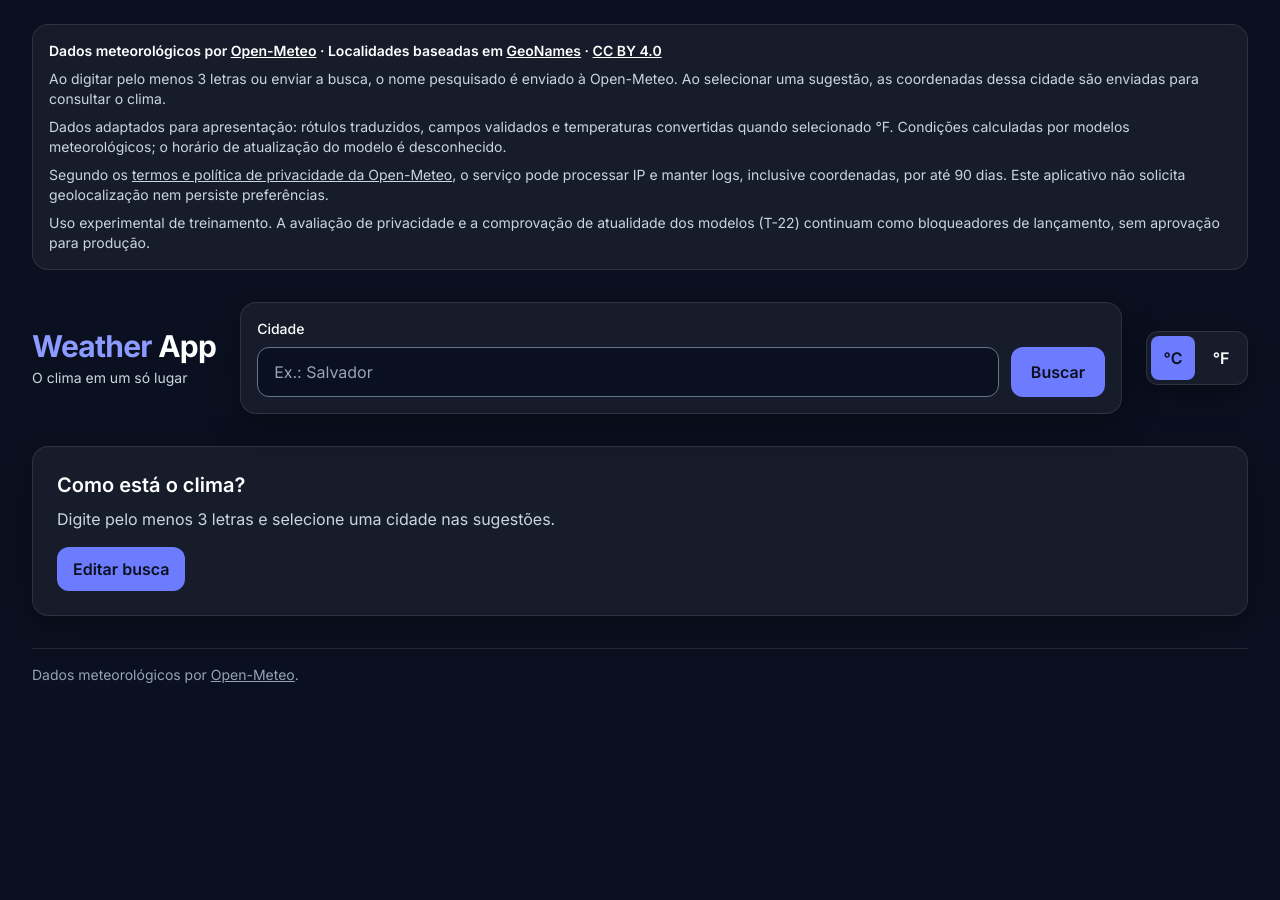
App com API e estados independentes › retry de forecast preserva a outra seção e unidade
Type "Sal" into the dropdown labelled "Cidade" at (628, 372), box [257,347,999,397]
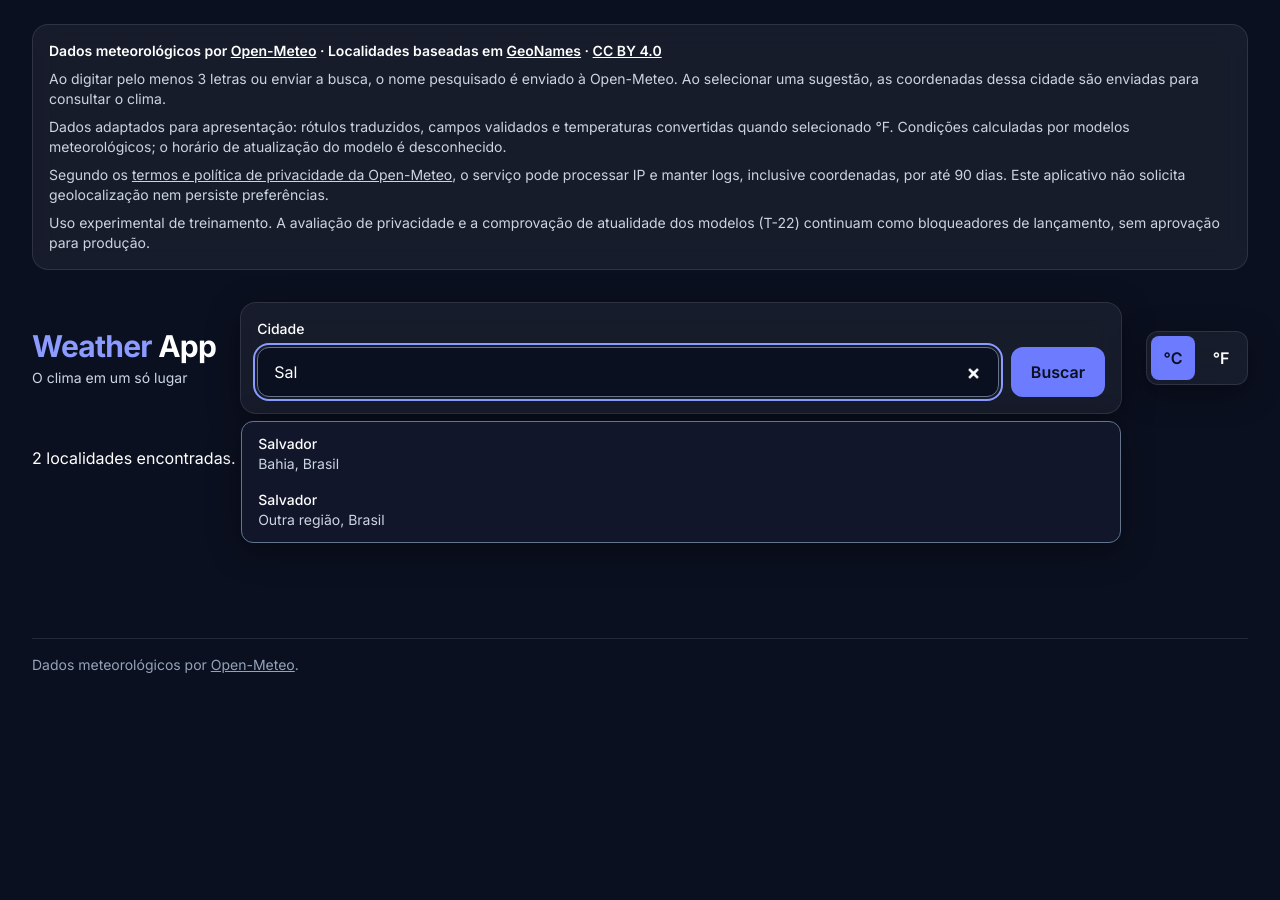
Click the option "Salvador Bahia, Brasil" at (288, 444), box [246,426,1116,482]
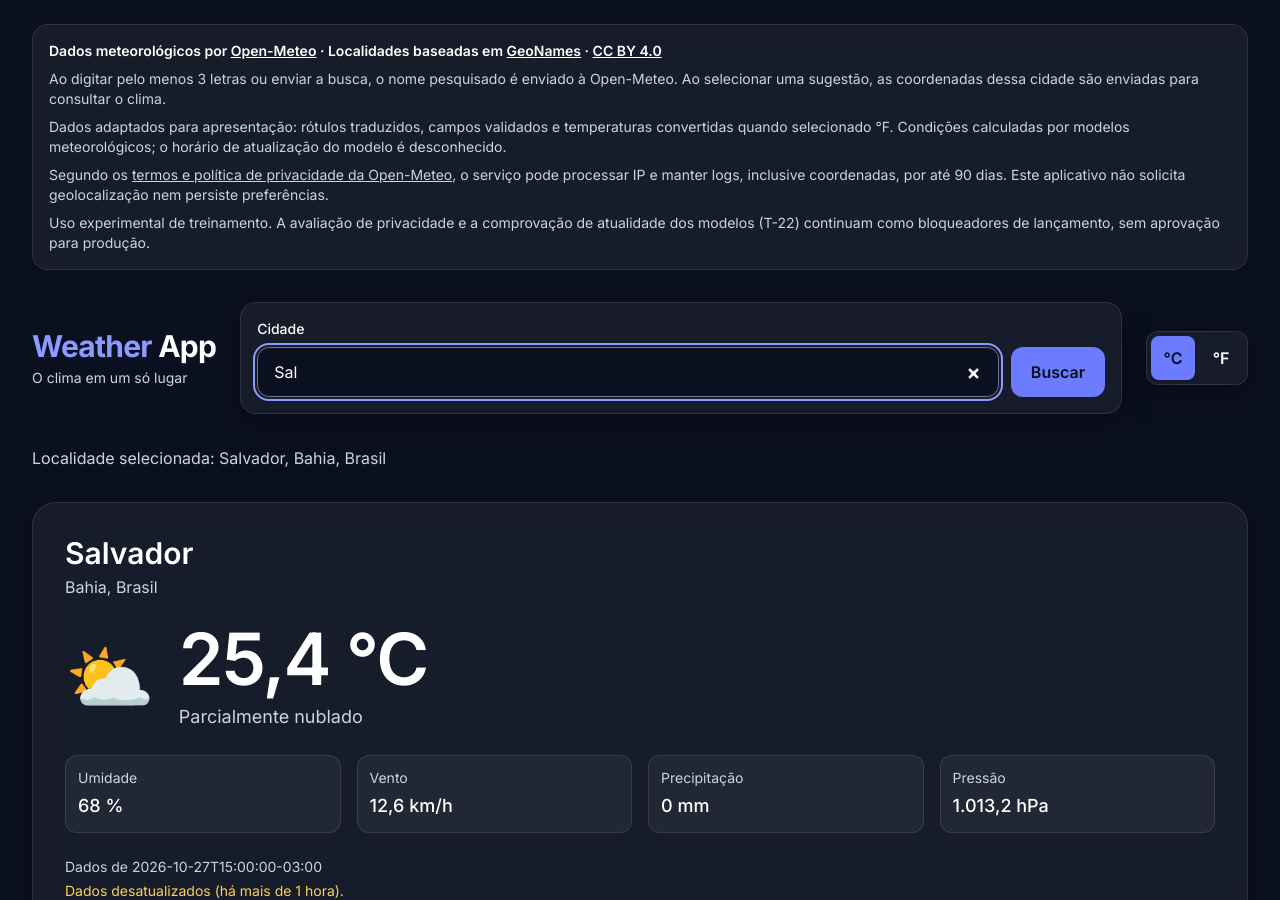
Click the button named "Graus Fahrenheit" at (1221, 358), box [1199,336,1243,380]
(page scrolled)
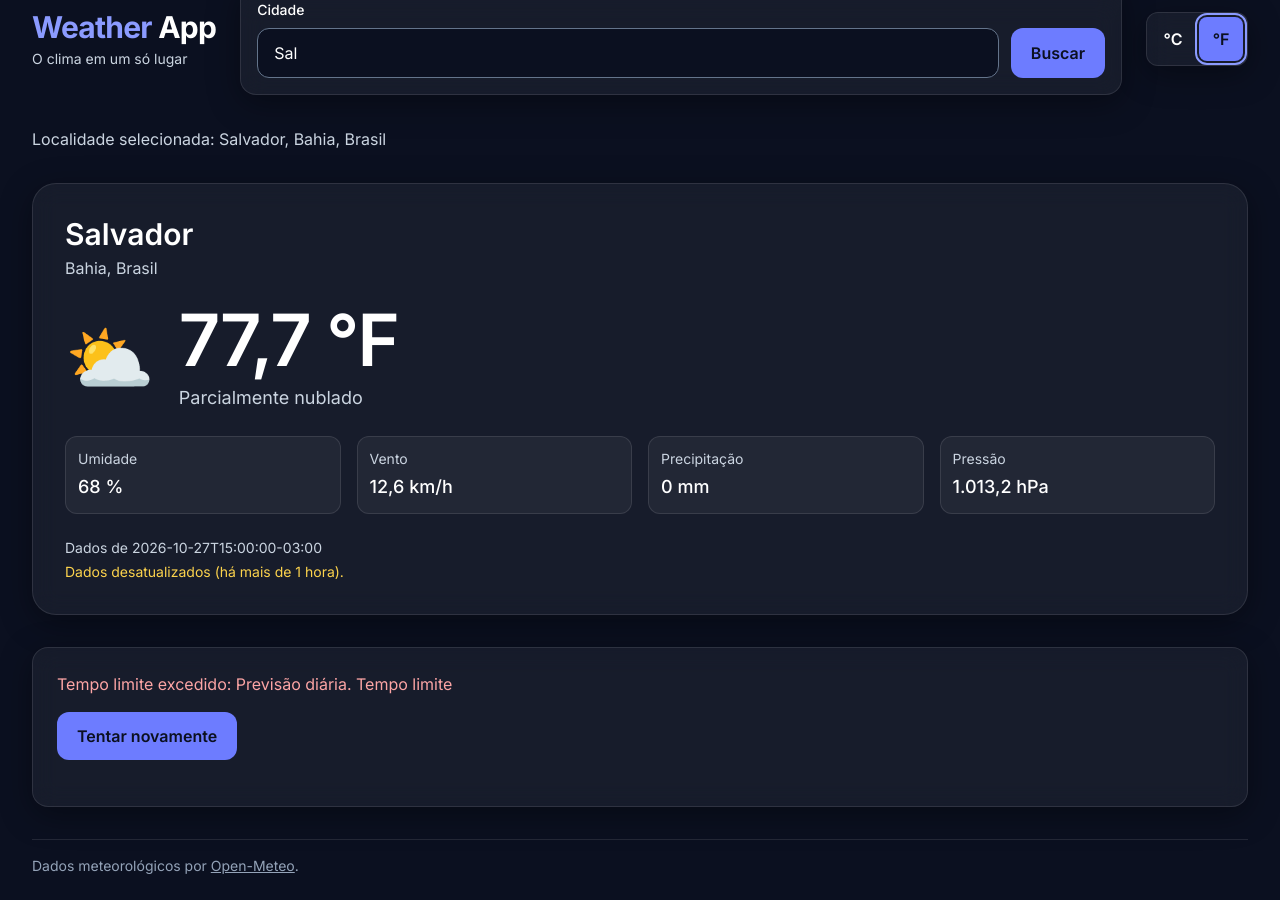
Click the button "Tentar novamente" at (147, 736), box [57,712,237,760]
(page scrolled)
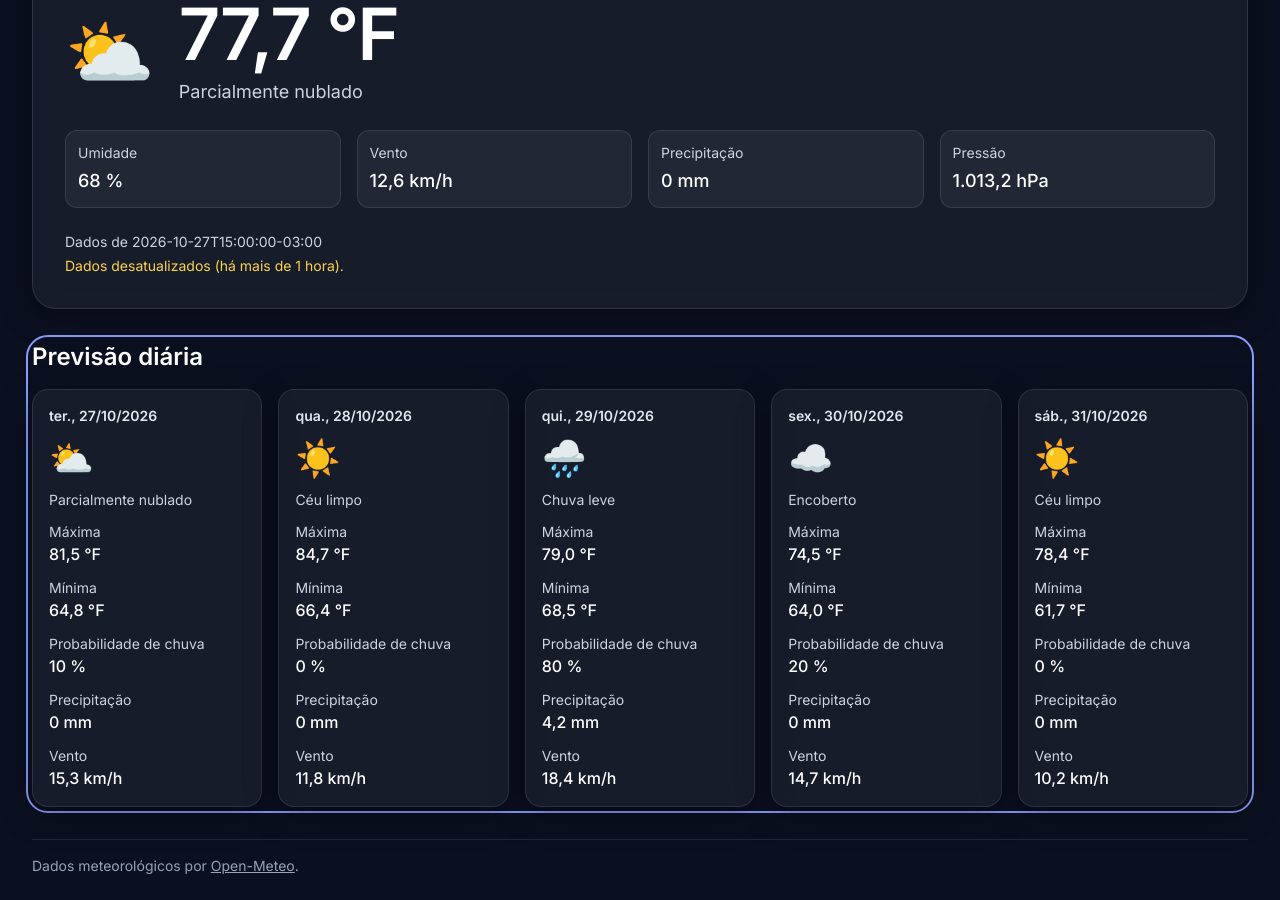
Expected: the text "77,7 °F" is shown 11 times
Expected: the element "Previsão diária" is shown, [32,341,1248,807]
